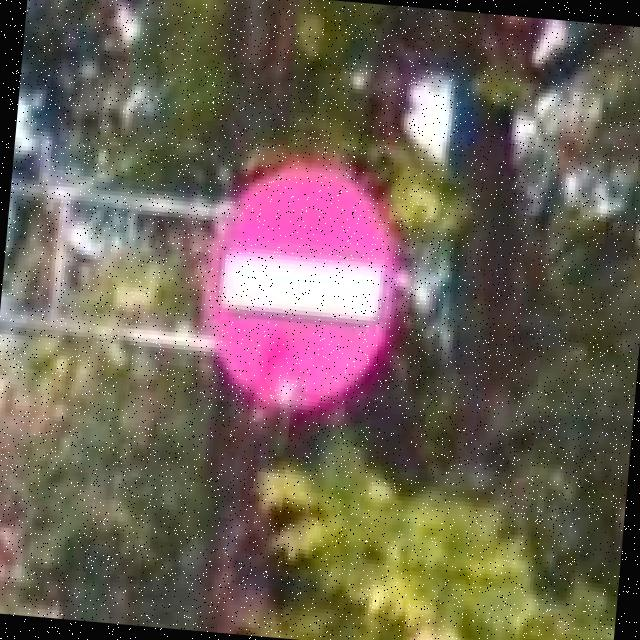Zakaz wjazdu: (192, 150, 404, 417)
